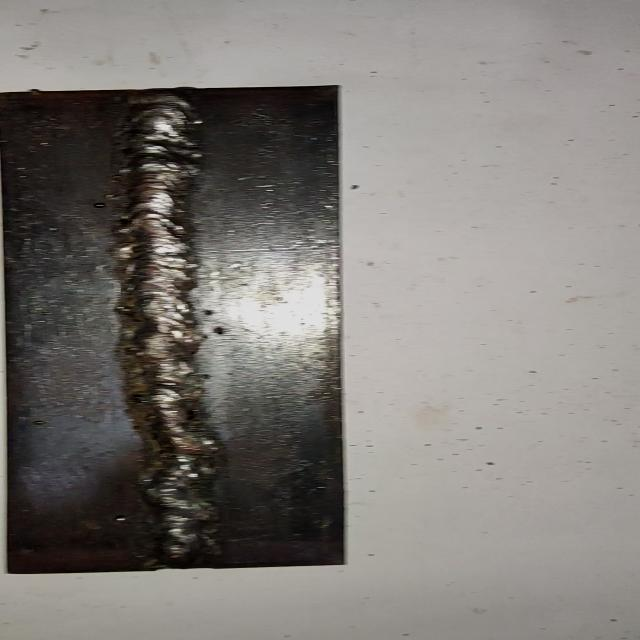Welding Line: (120, 97, 218, 561)
Workpiece: (0, 80, 355, 577)
